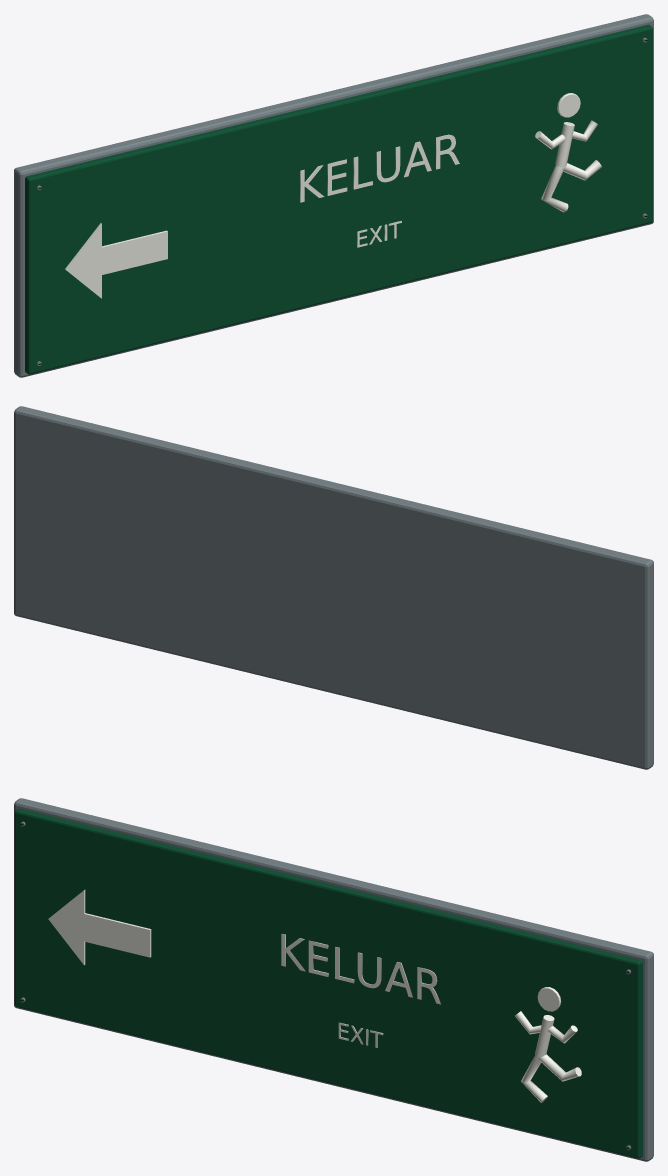
The model's file is OAA_Papan_Keluar_Kiri.fbx.
3 renders of one model, top to bottom at view 1: azimuth 30°, elevation 25°; view 2: azimuth 150°, elevation 25°; view 3: azimuth 330°, elevation 25°, orthographic.
Visible parts, largest first — view 1: Body; view 2: Body; view 3: Body.
Boxes of the visible parts, <box> form: Body: <box>14,14,653,377</box>; Body: <box>14,406,653,769</box>; Body: <box>14,798,653,1161</box>.
Bounding box in the file's own units: 0.9 × 0.28 × 0.041.
